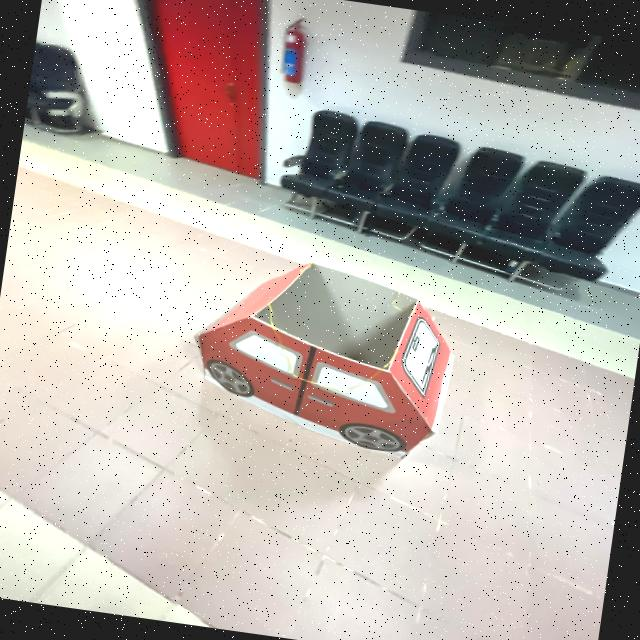red_car: (174, 236, 481, 491)
